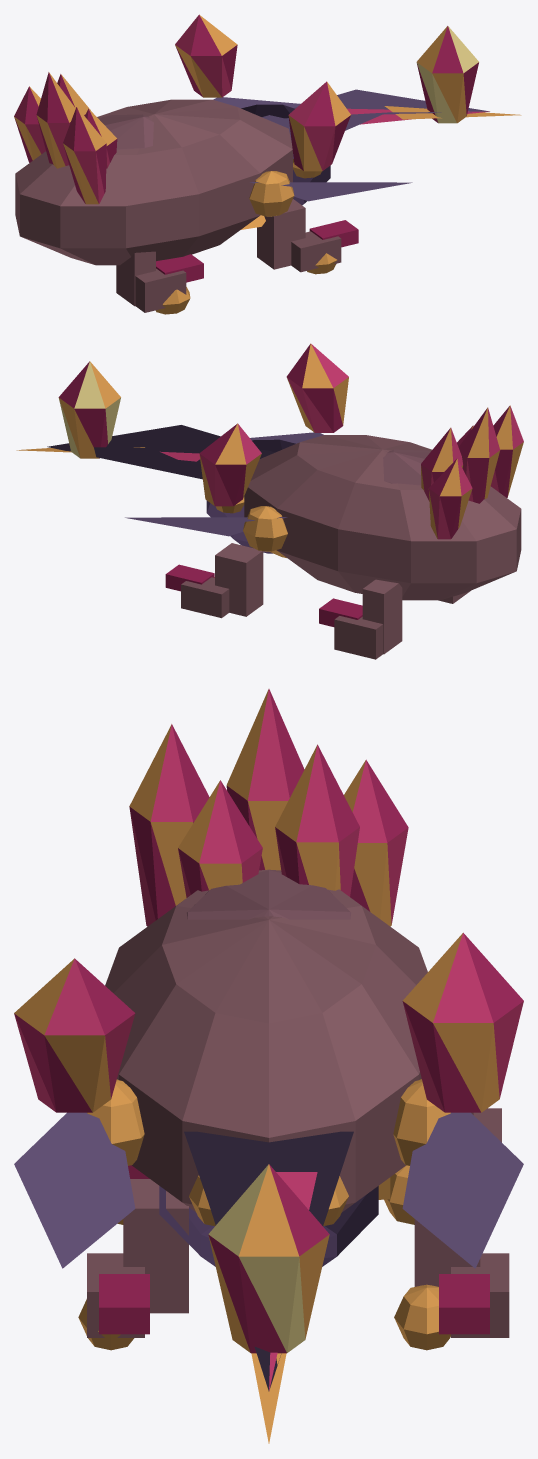
Rendered from enemy-rammer.glb.
The picture shows the model from 3 angles, top to bottom: view 1: azimuth 30°, elevation 25°; view 2: azimuth 150°, elevation 25°; view 3: azimuth 270°, elevation 25°; orthographic projection. The views are drawn at different scales.
Parts seen in each view (by area): view 1: Rammer charge-horn beast; view 2: Rammer charge-horn beast; view 3: Rammer charge-horn beast.
Part boxes in pixels (box(x1,y1,x2,y2)): Rammer charge-horn beast: box(14, 14, 521, 314); Rammer charge-horn beast: box(16, 343, 523, 659); Rammer charge-horn beast: box(14, 689, 523, 1443).
Bounding box in the file's own units: 0.9273 × 0.4127 × 0.42.
